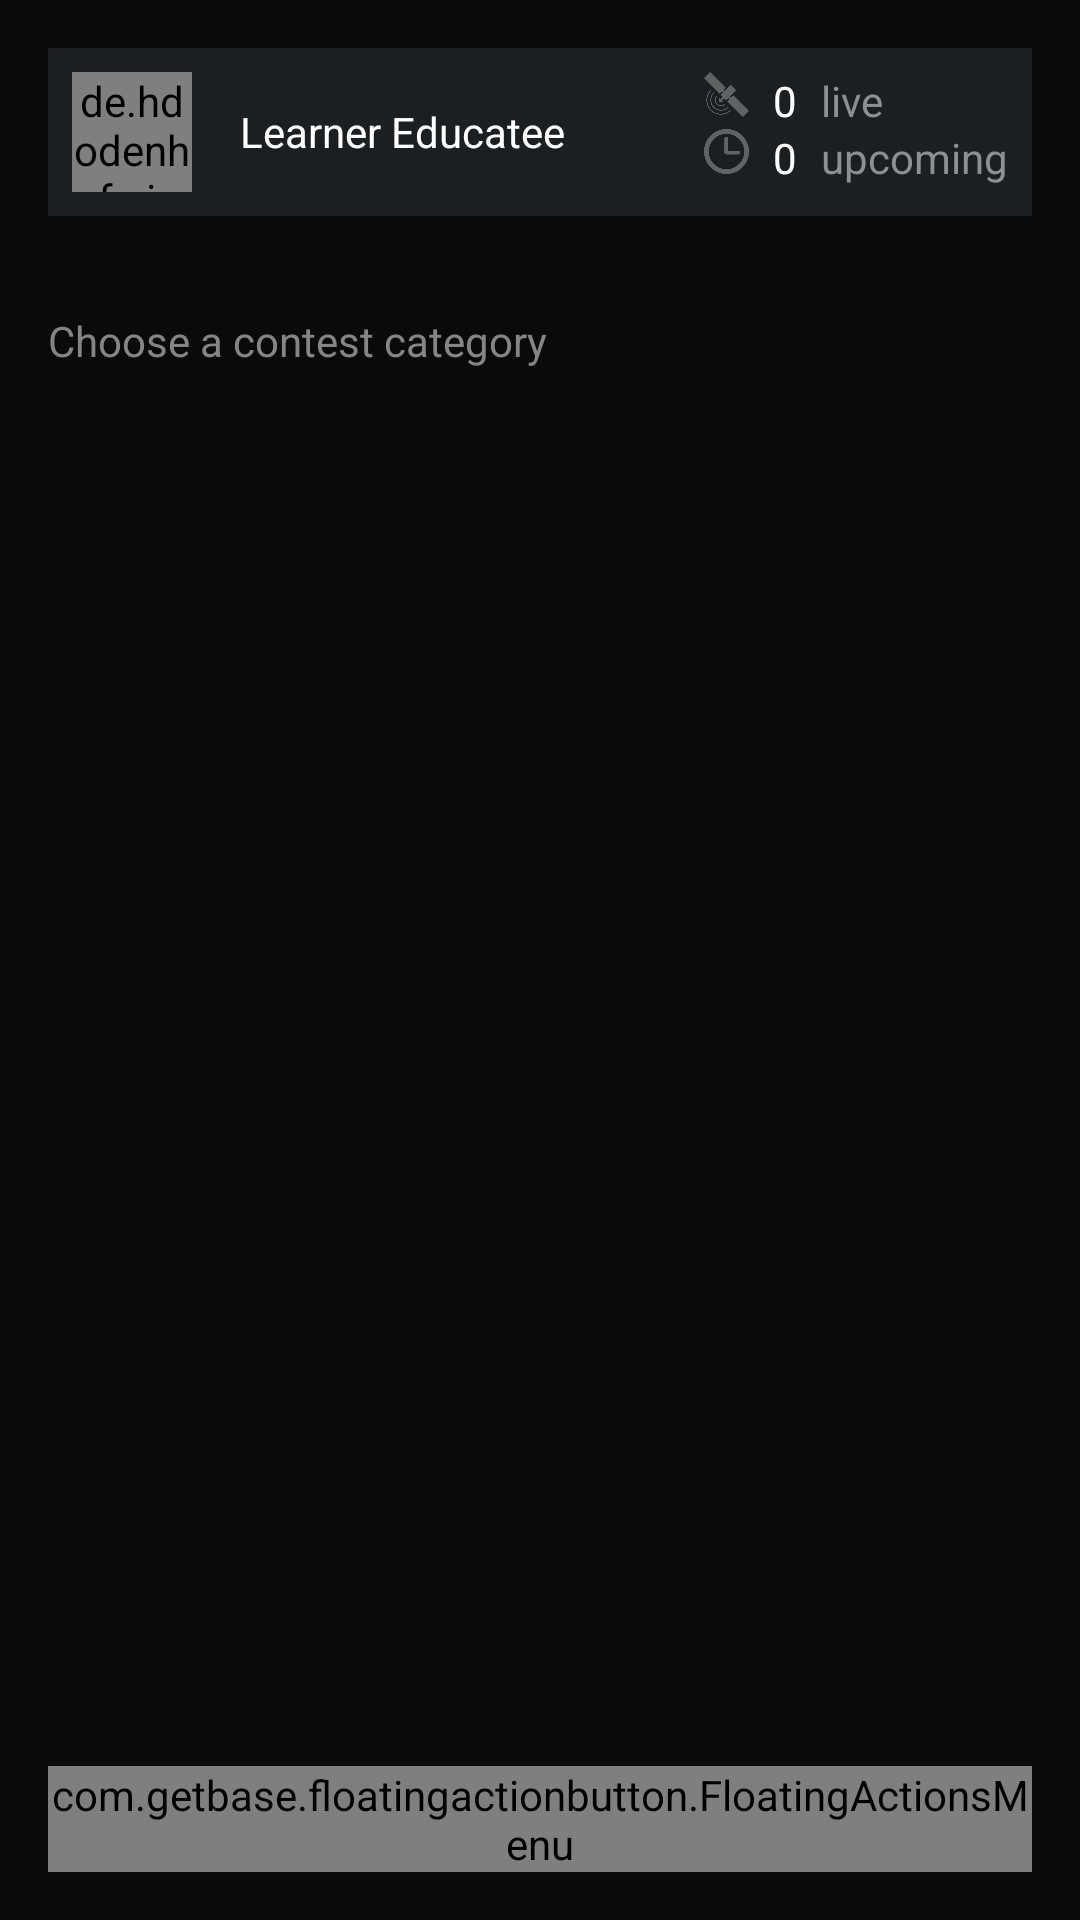

Named icons in this screenshot (1080 × 1920) and their centers, [x,y]:
clock circular: [726,151]
satellite: [726,94]
